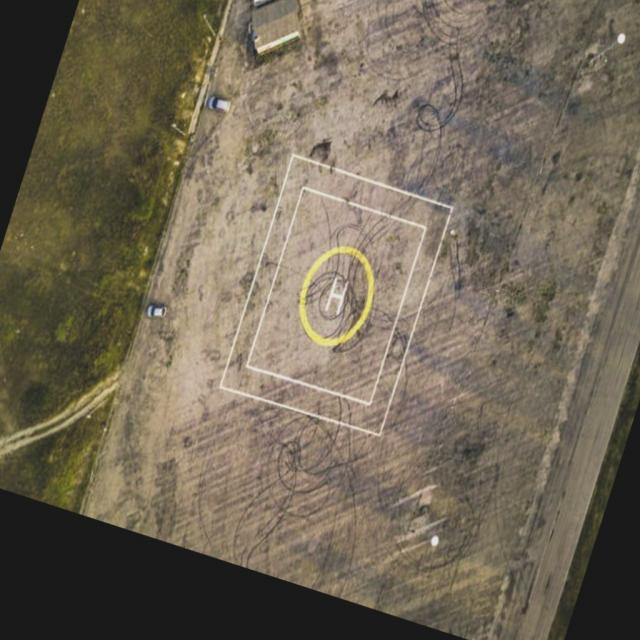helipad: (292, 241, 377, 350)
